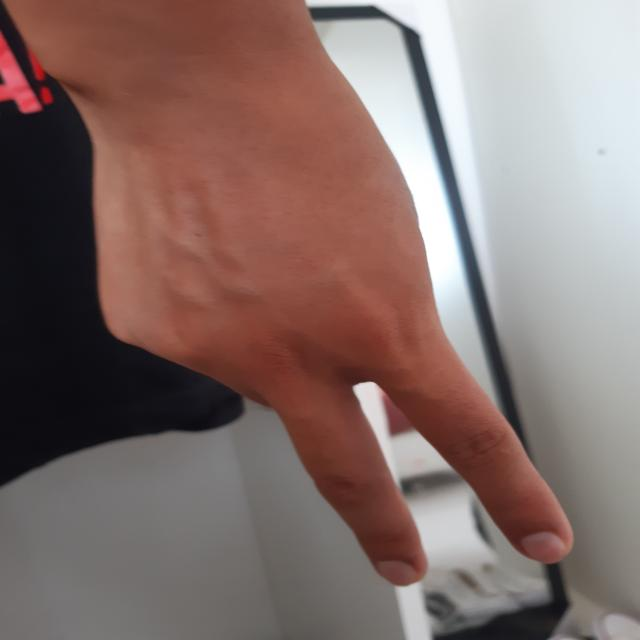EYE: (53, 80, 592, 592)
